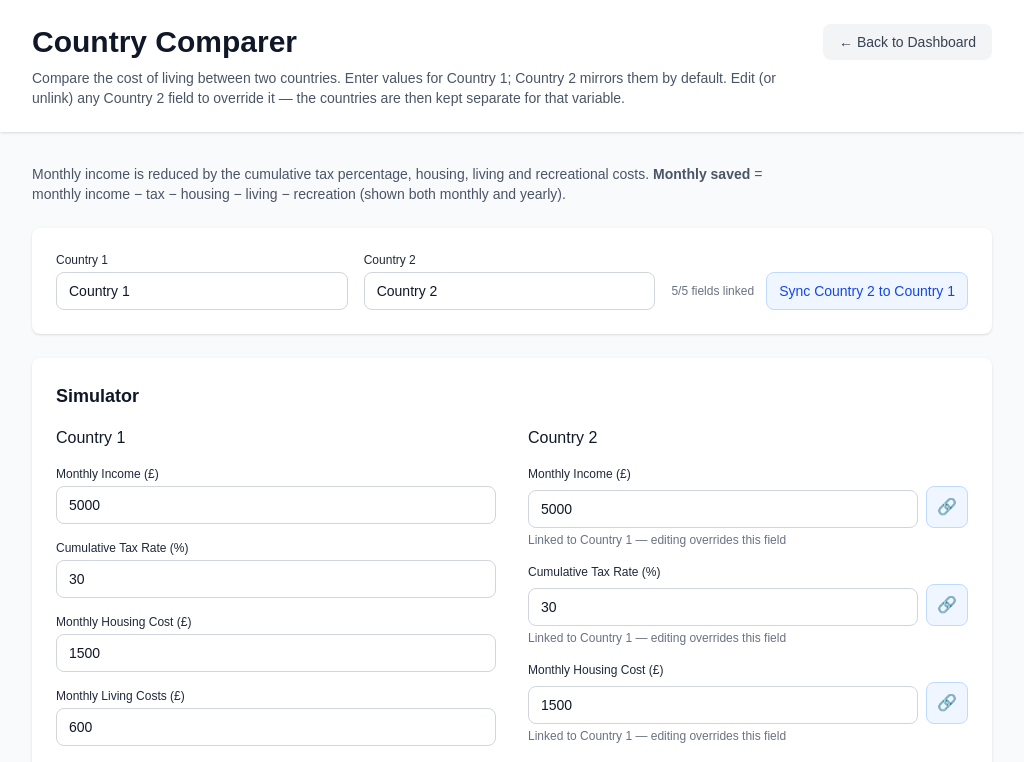
Scenario: CountryComparer › auto-unlinks a Country 2 field when it is edited
Check: the button named "Unlink \"Monthly Income (£)\" from Country 1" is shown, box x1=926 y1=486 x2=968 y2=528
Step 1. Replace the text in the number field with id "country2-income" with "9000" → (723, 509), box x1=528 y1=490 x2=918 y2=528
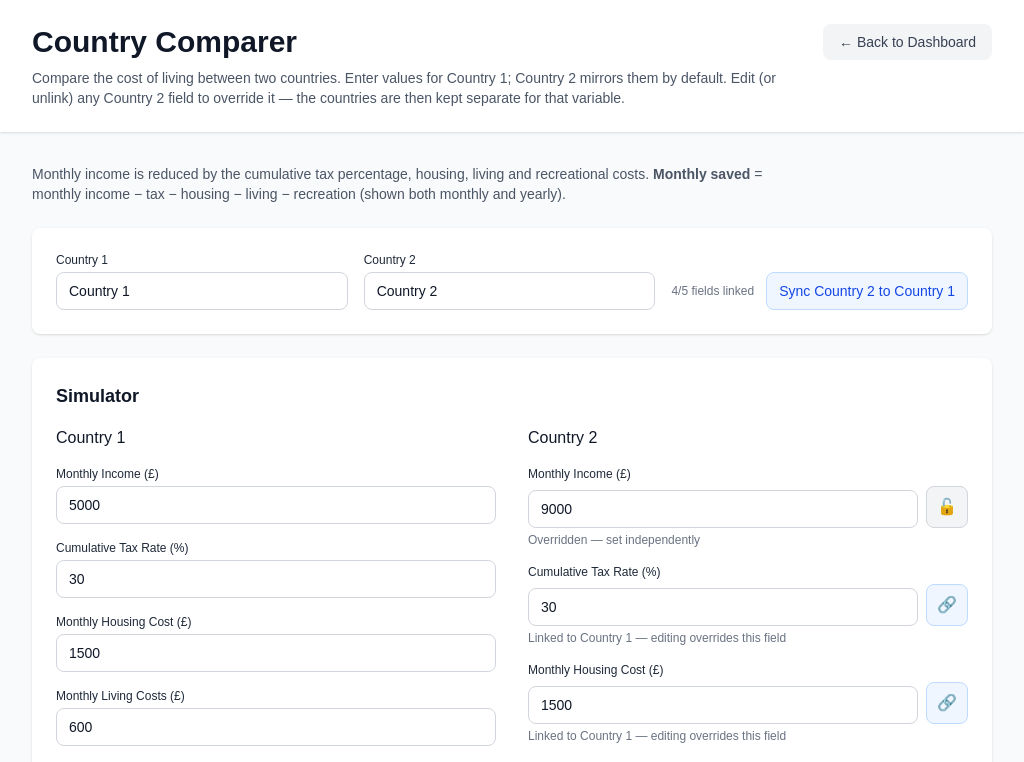
Check: the button named "Re-link \"Monthly Income (£)\" to Country 1" is shown, box x1=926 y1=486 x2=968 y2=528
